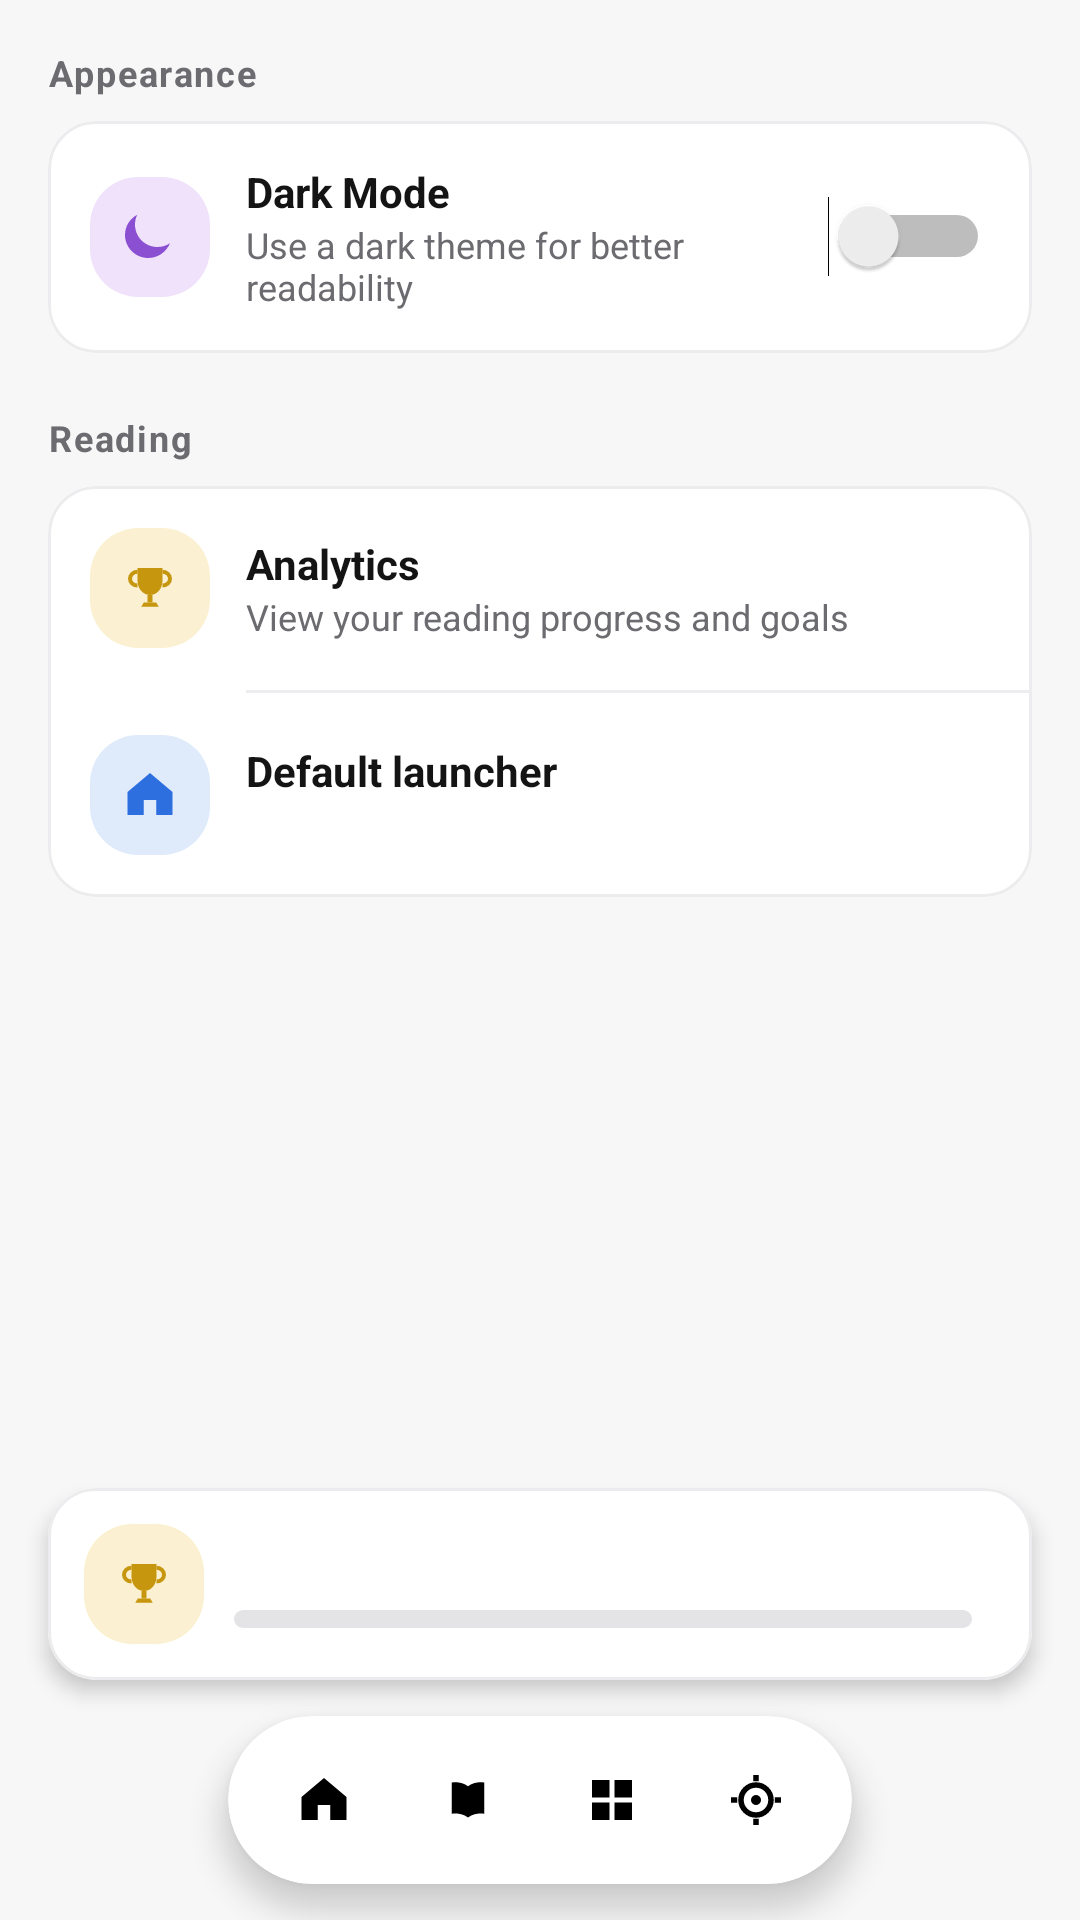

Point at icon controls on the screen. Image size 1080w x 1920h, points as (x,y).
book: (468,1800)
grid: (612,1800)
home: (150,794), (324,1799)
moon: (147,236)
trophy: (150,587), (144,1583)
